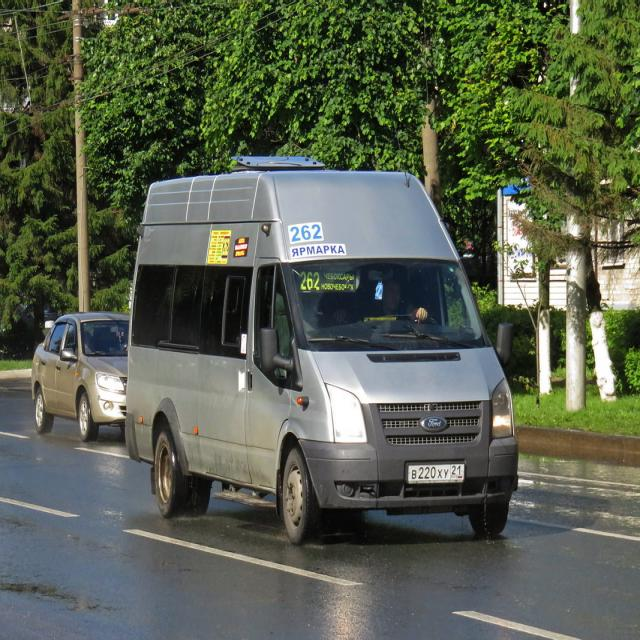number-of-bus: (292, 224, 323, 245), (300, 271, 322, 293)
